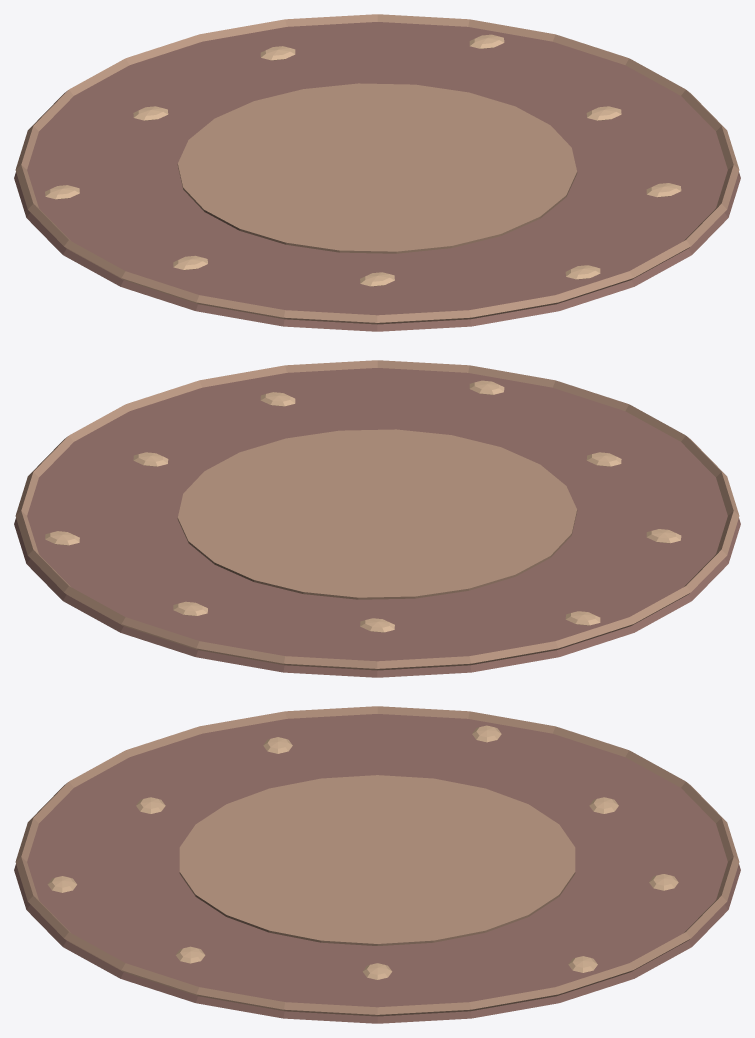
Rendered from chocolate_grande.glb.
3 views of the same model, one above another, from view 1: azimuth 30°, elevation 25°; view 2: azimuth 150°, elevation 25°; view 3: azimuth 270°, elevation 25° (orthographic).
Visible parts, largest first — view 1: chocolate_grande; view 2: chocolate_grande; view 3: chocolate_grande.
Part boxes in pixels (left/top/right/bottom): chocolate_grande: left=14, top=14, right=740, bottom=331; chocolate_grande: left=14, top=360, right=740, bottom=677; chocolate_grande: left=14, top=706, right=740, bottom=1023.
Size of the model in its own units: 4.4 by 0.09 by 4.4.
